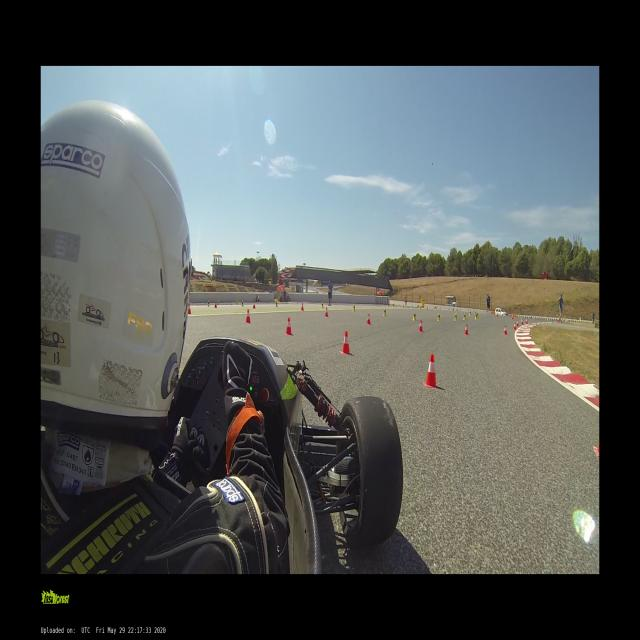orange_cone: (423, 354, 439, 388), (341, 331, 351, 355), (285, 317, 292, 336), (245, 308, 251, 324), (418, 320, 424, 332), (502, 325, 508, 337), (367, 314, 371, 326), (464, 324, 468, 336), (187, 303, 191, 314), (325, 307, 329, 317), (512, 322, 516, 330), (520, 318, 524, 325), (301, 302, 304, 311), (525, 318, 528, 325), (516, 320, 519, 327), (253, 302, 256, 309), (215, 301, 217, 308)
yellow_cone: (382, 308, 387, 316), (413, 312, 416, 320), (454, 313, 457, 321), (353, 304, 356, 312), (463, 313, 466, 320), (207, 300, 210, 307), (438, 313, 440, 321), (322, 301, 324, 309), (475, 313, 477, 319), (476, 312, 478, 318), (469, 311, 471, 316), (242, 300, 243, 307)
